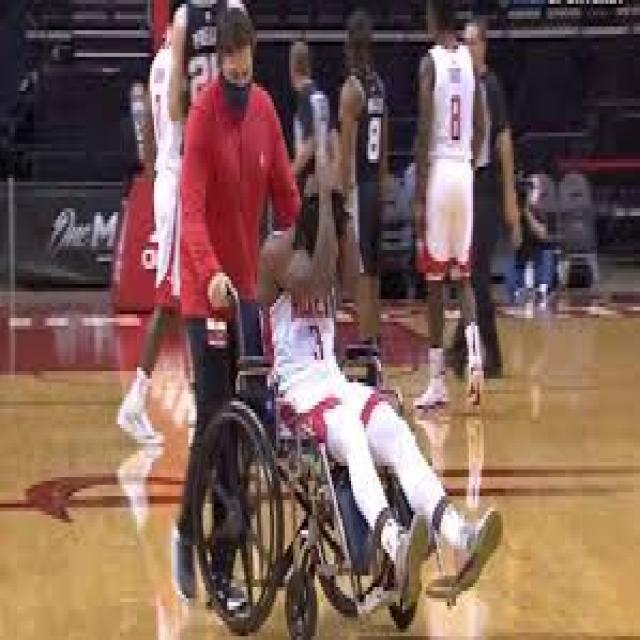wheelchairs: (195, 272, 501, 632)
